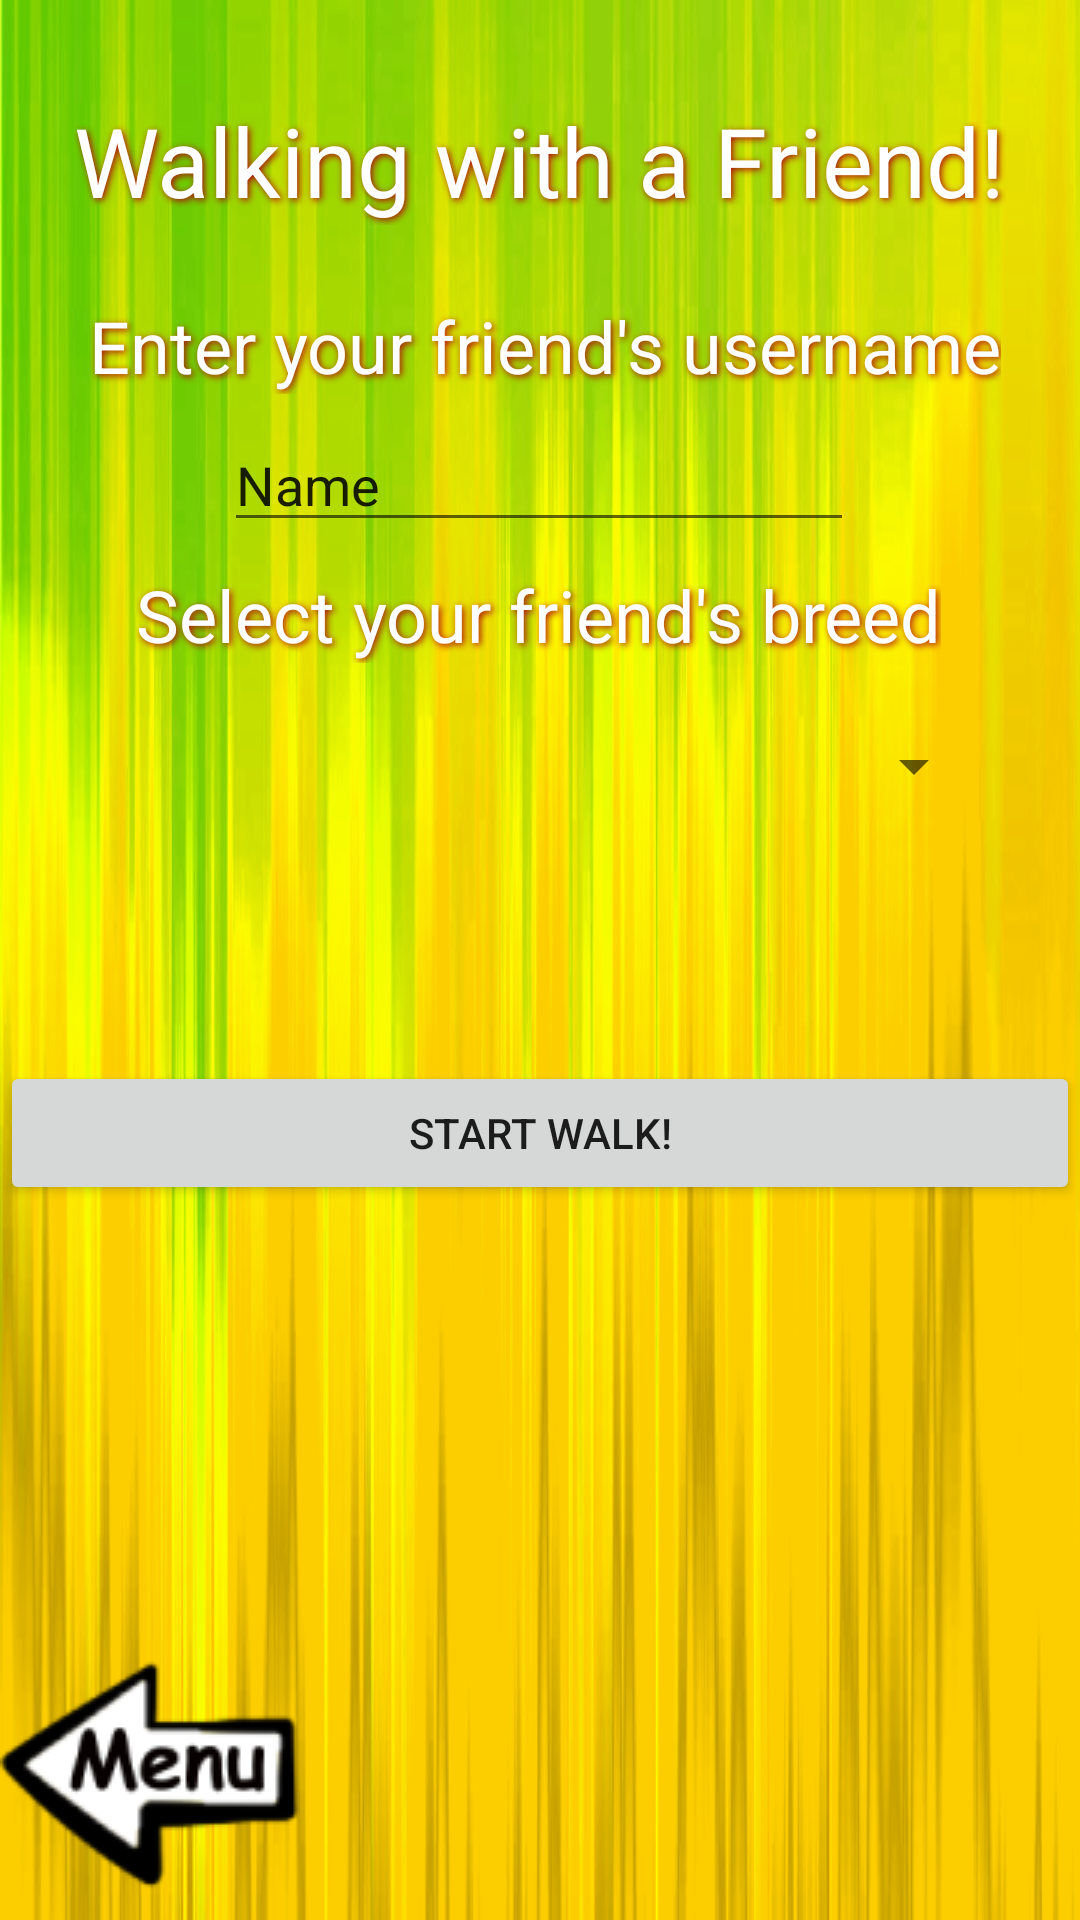

Point at icon controls on the screen. Image size 1080x1920, points as point (x, y).
arrow: point (150, 1770)
